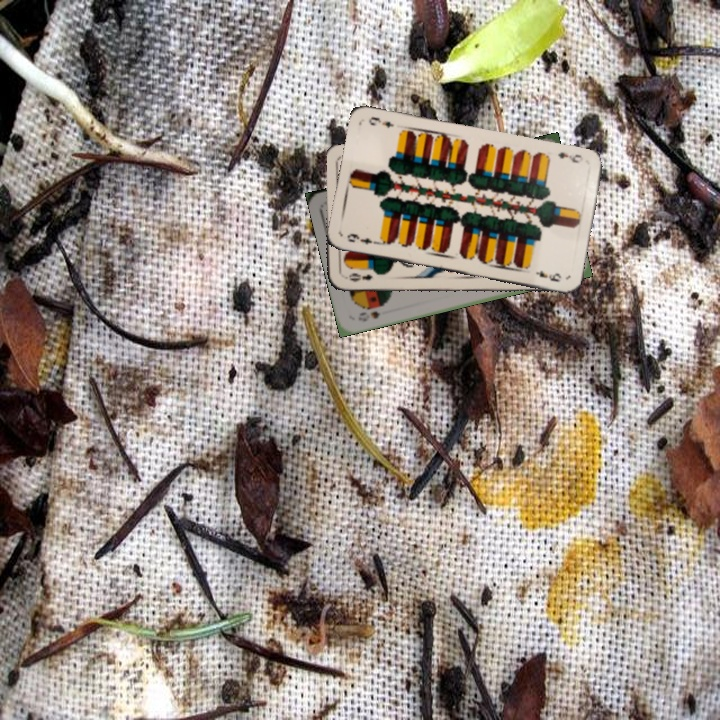E9: (343, 229, 381, 247), (553, 148, 584, 166)
EO: (340, 269, 375, 284)
SO: (354, 307, 383, 324)
